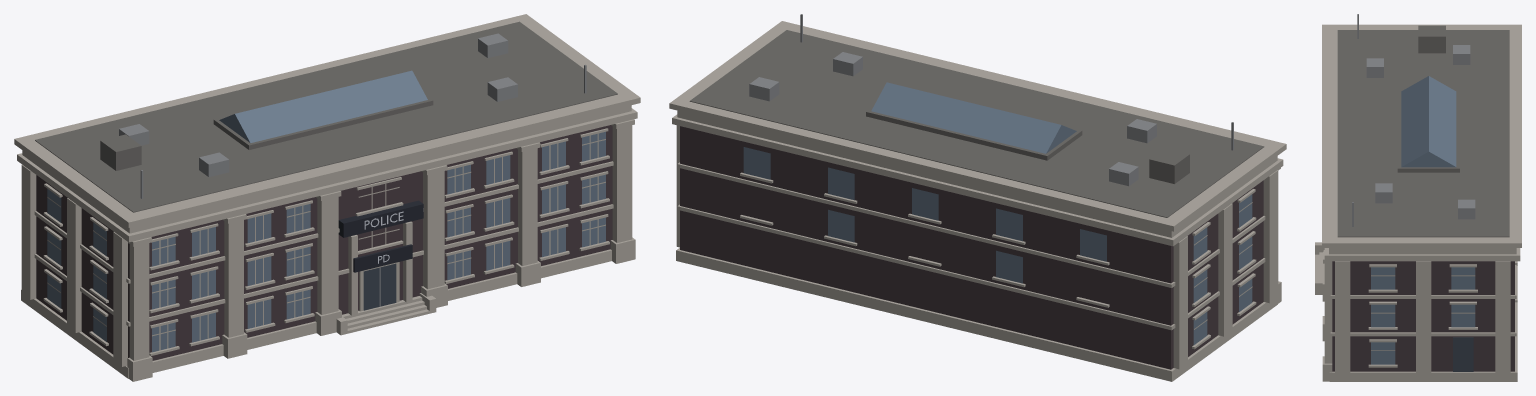
Rendered from police_batiment.glb.
3 views of the same model, side by side, from view 1: azimuth 30°, elevation 25°; view 2: azimuth 150°, elevation 25°; view 3: azimuth 270°, elevation 25° (orthographic). The views are drawn at different scales.
Visible parts, largest first — view 1: police_batiment; view 2: police_batiment; view 3: police_batiment.
Boxes of the visible parts, x1,y1,x2,y2 form: police_batiment: (14,14,640,381); police_batiment: (669,14,1286,381); police_batiment: (1315,14,1521,381).
Size of the model in its own units: 30 by 10.6 by 12.
